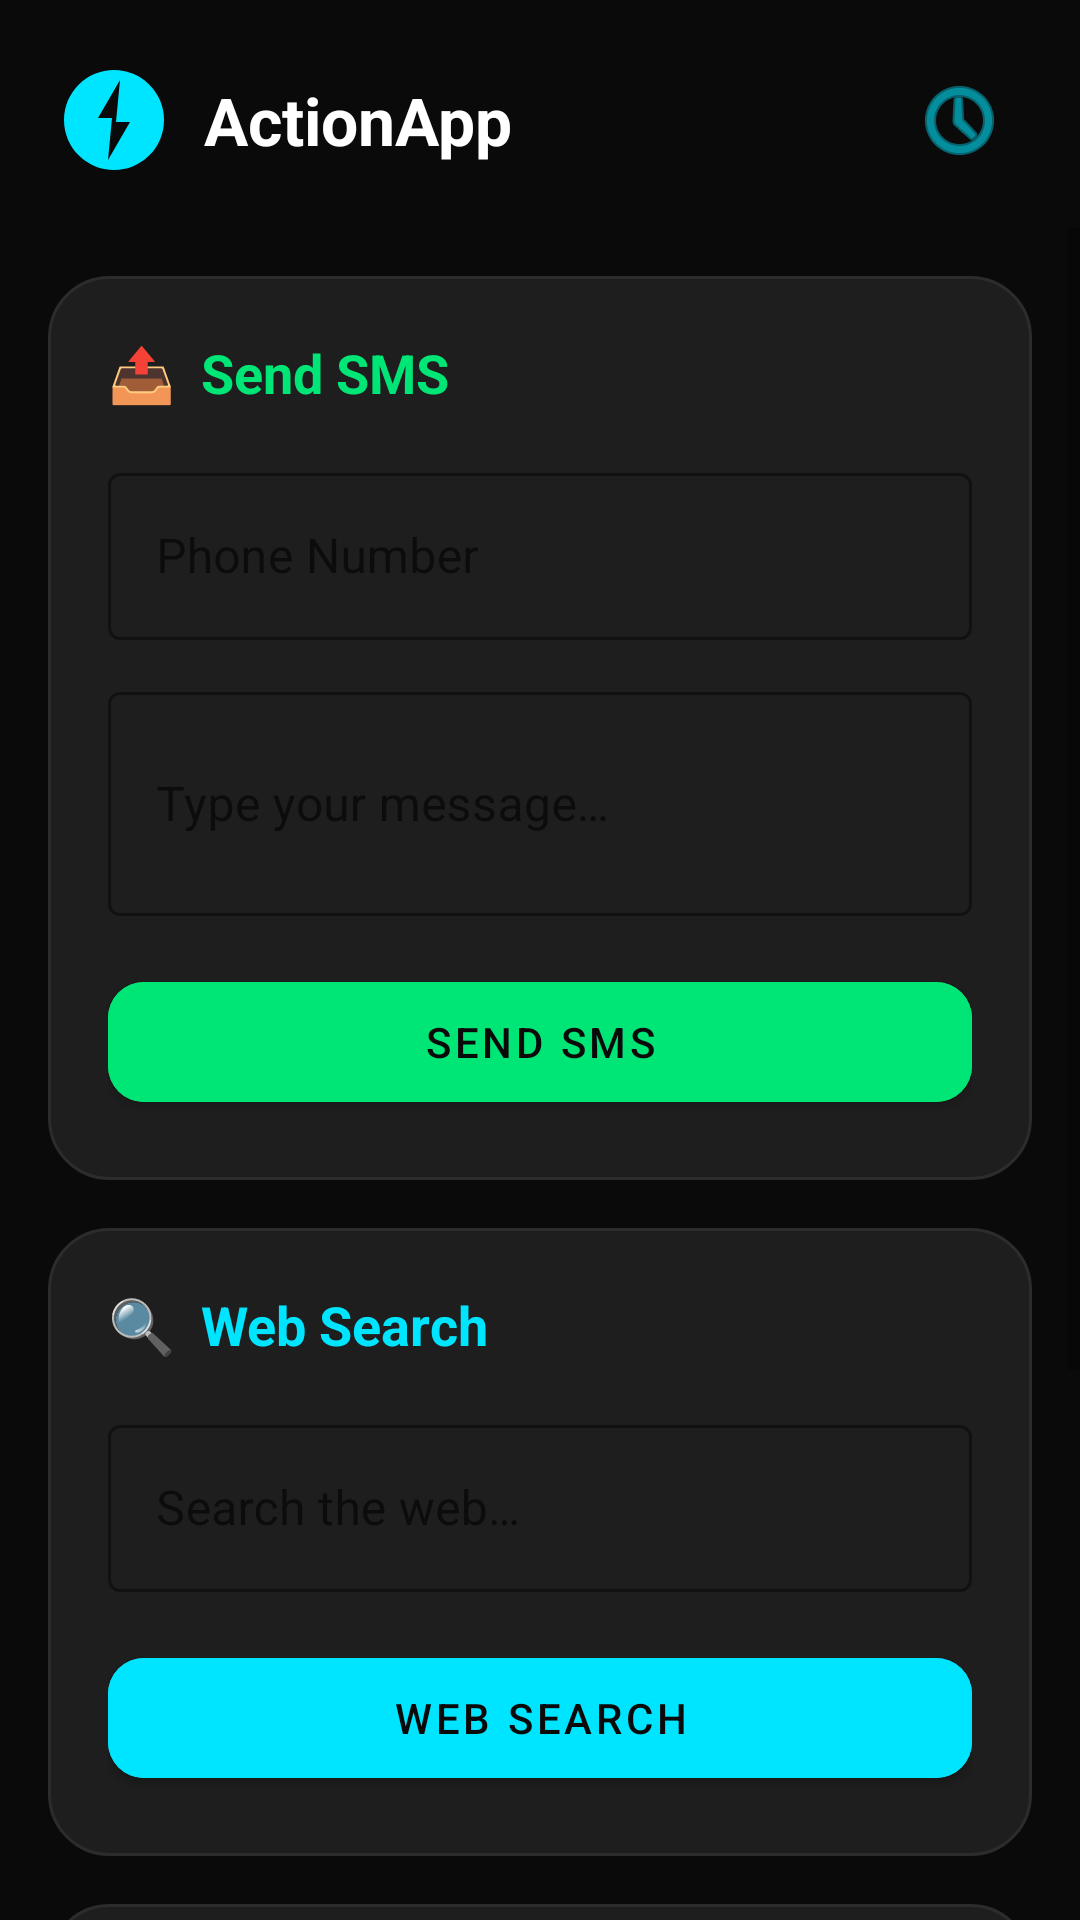

Point at icon controls on the screen. Image size 1080*1920, points as [x,y].
History: [959,120]
